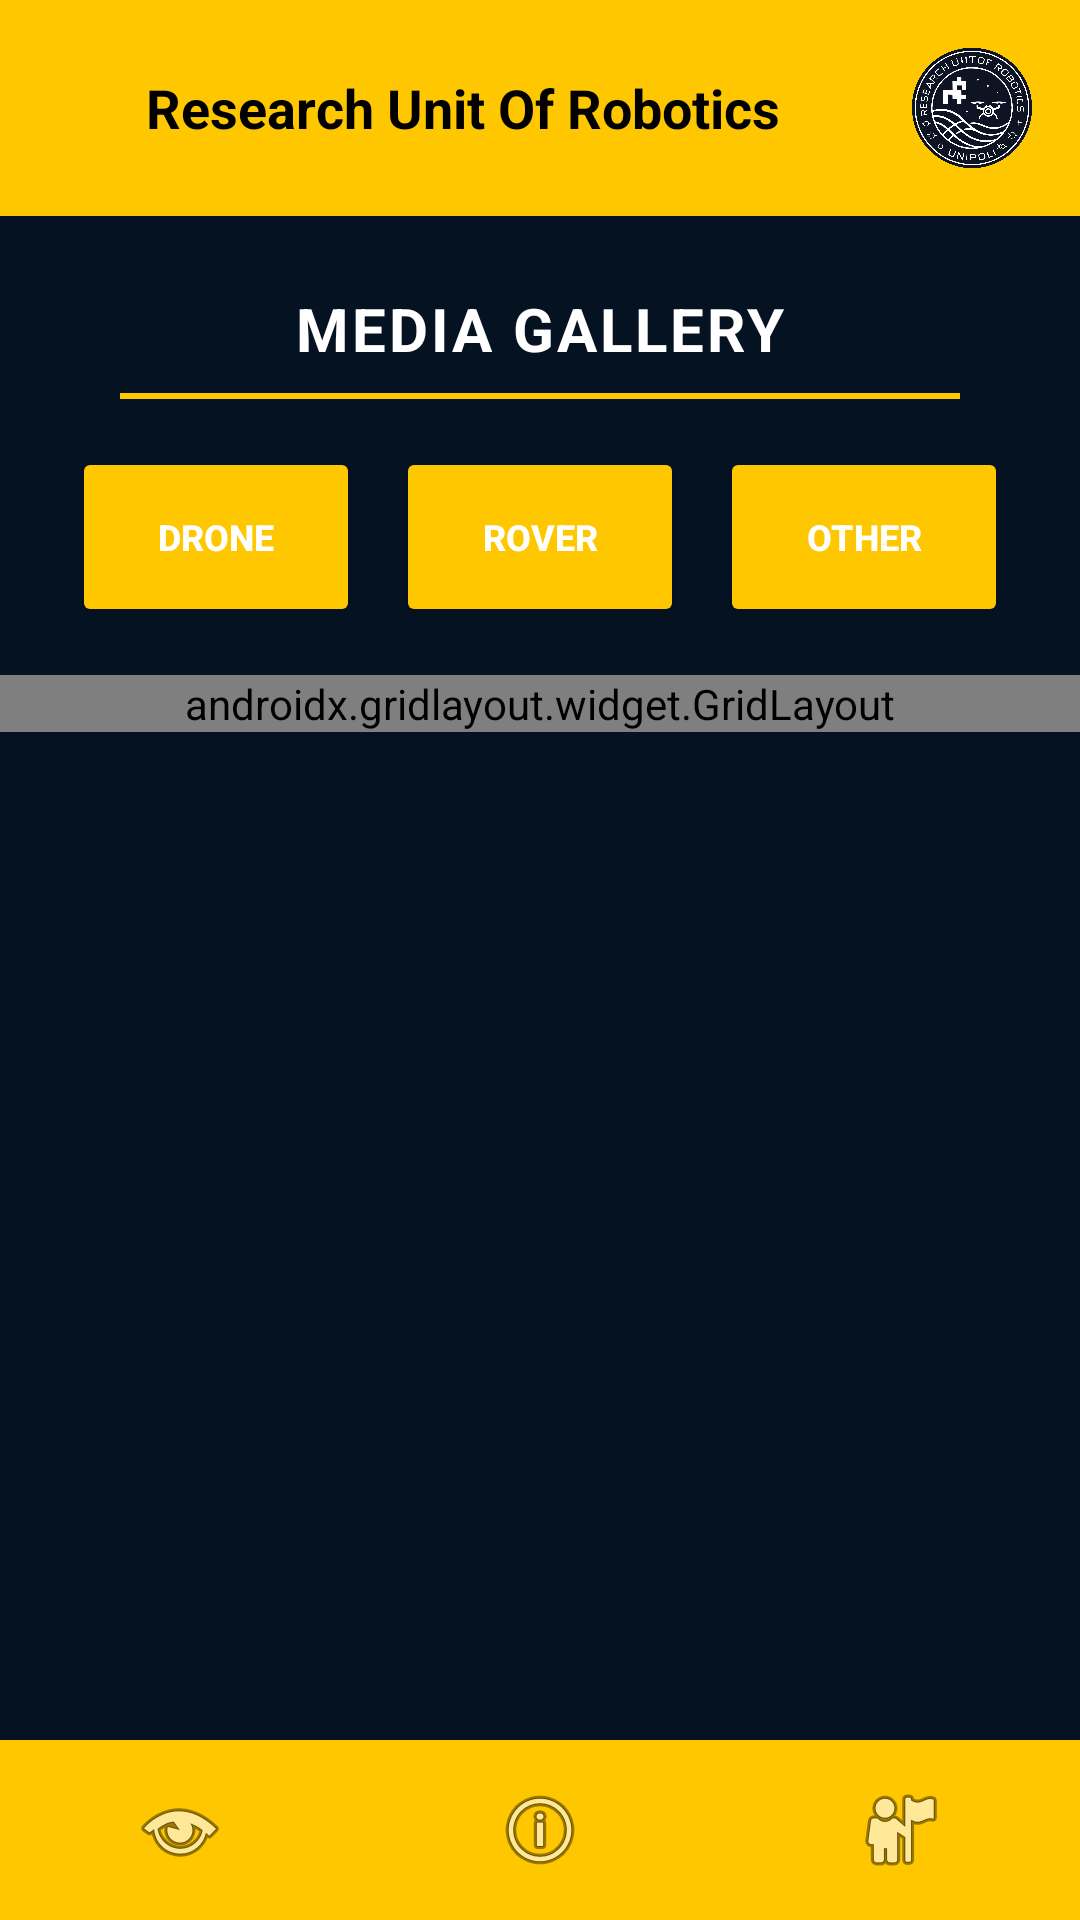

Icons on this 1080w x 1920h Android screen, each with its box as [x1,y1,x2,y2]:
info details: [505,1795,575,1865]
myplaces: [865,1794,937,1866]
view: [141,1808,219,1857]
